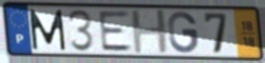3: (67, 9, 95, 53)
7: (203, 11, 231, 55)
E: (97, 10, 135, 53)
G: (167, 10, 200, 55)
H: (129, 9, 171, 56)
M: (27, 8, 69, 52)
